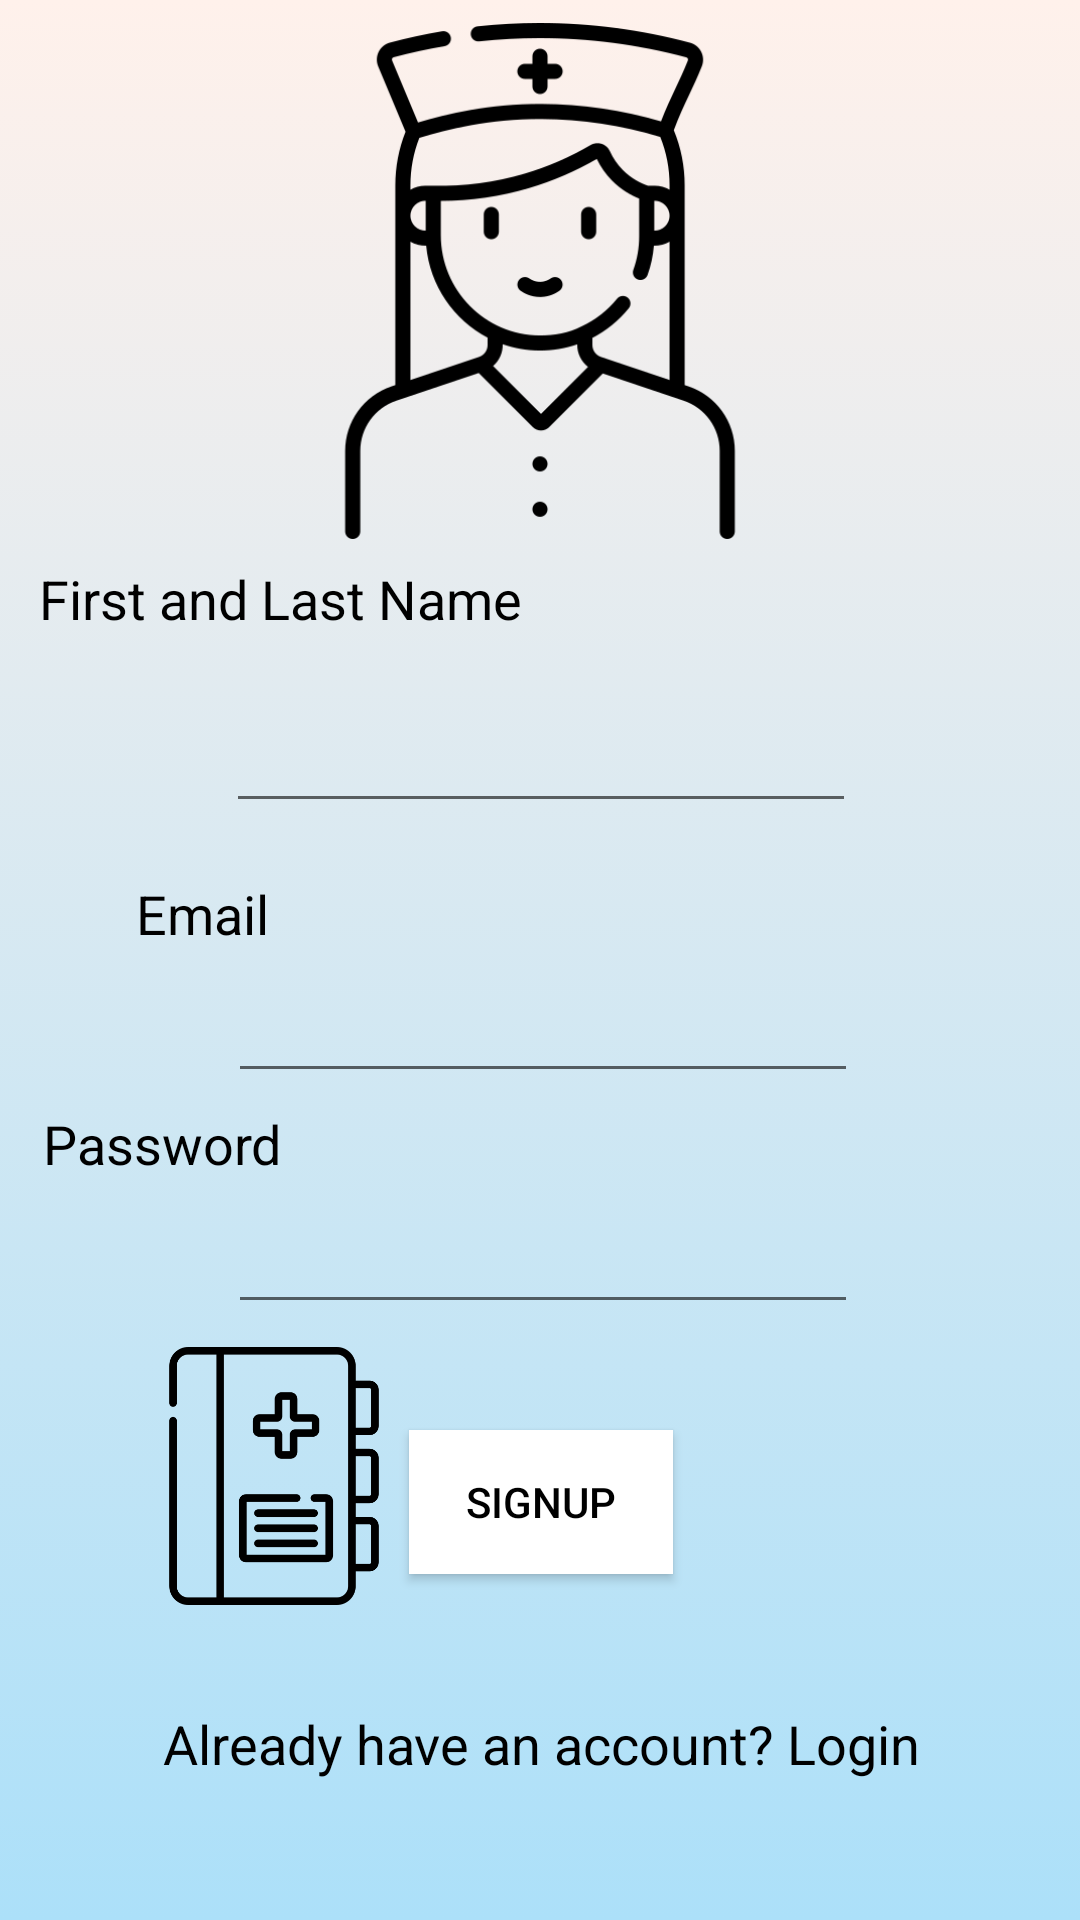

Named icons in this screenshot (1080px x 1920px) and their bounding boxes, (x1, y1, x2, y2):
medicalfile: (169, 1347, 379, 1605)
